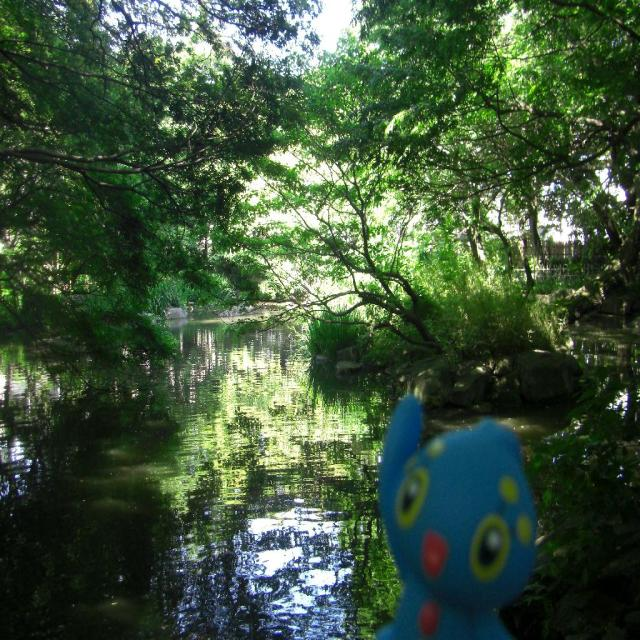Toy: (378, 405, 536, 640)
